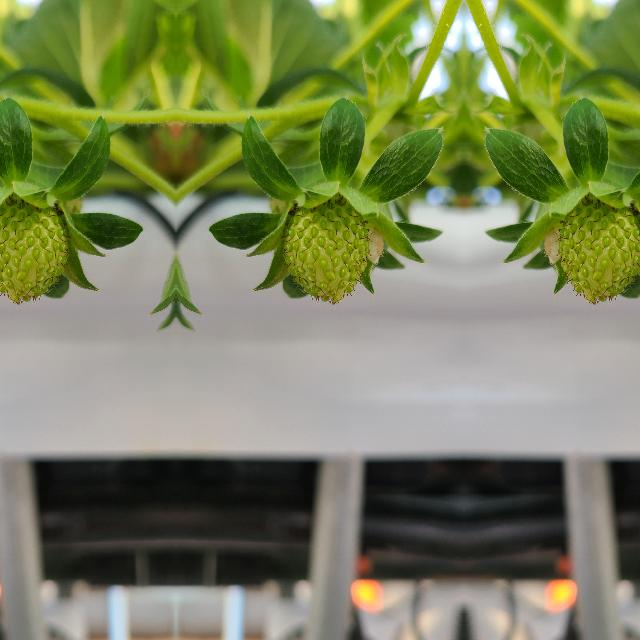Health_25: (279, 192, 371, 302), (555, 191, 640, 302), (0, 191, 71, 302)
